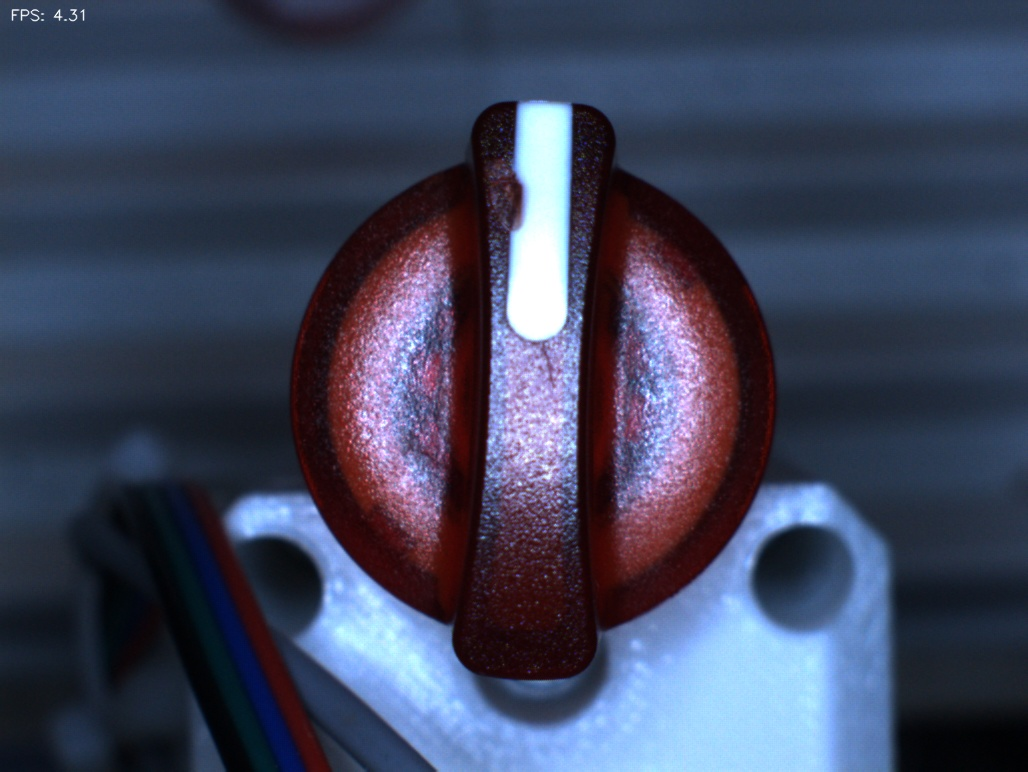Choc: (444, 140, 544, 240)
